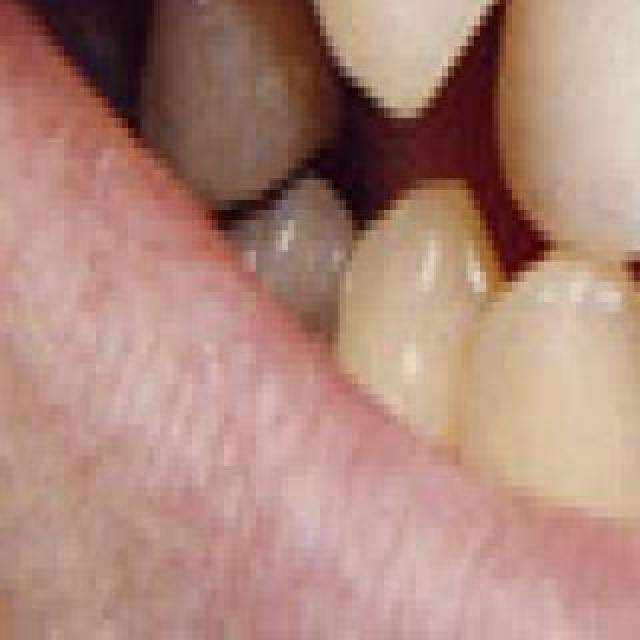maligned: (438, 254, 640, 510), (464, 0, 640, 246), (268, 0, 594, 88)
